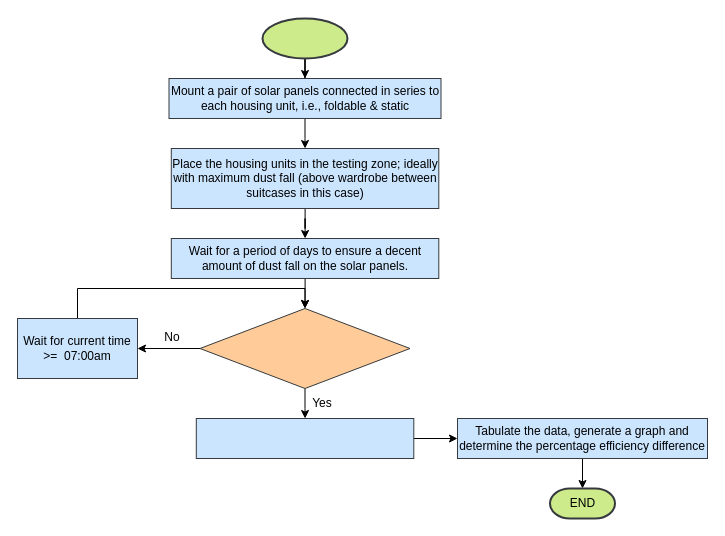
Some shapes in this 725 by 536 pixel diagram are drawn without their labels. The centre of each missing label's shape, as x and y in pixels:
"Is it morning past 07:00 am? (After waiting period)" belongs at [304,348].
"Measure voltage readings across the both pairs of solar panels" belongs at [304,438].
"START" belongs at [304,38].
